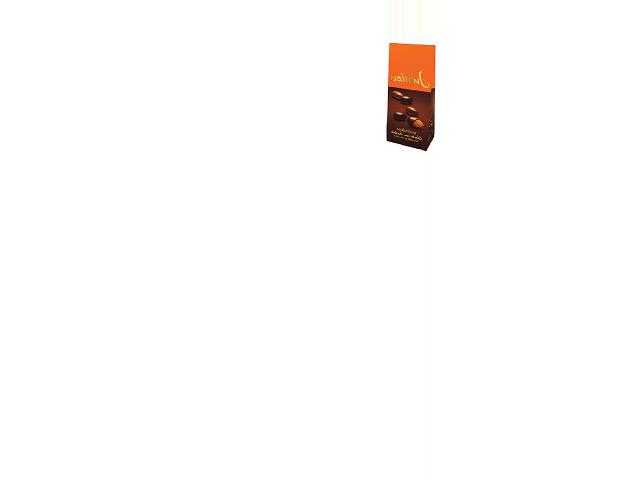chocolate: (380, 43, 437, 149)
